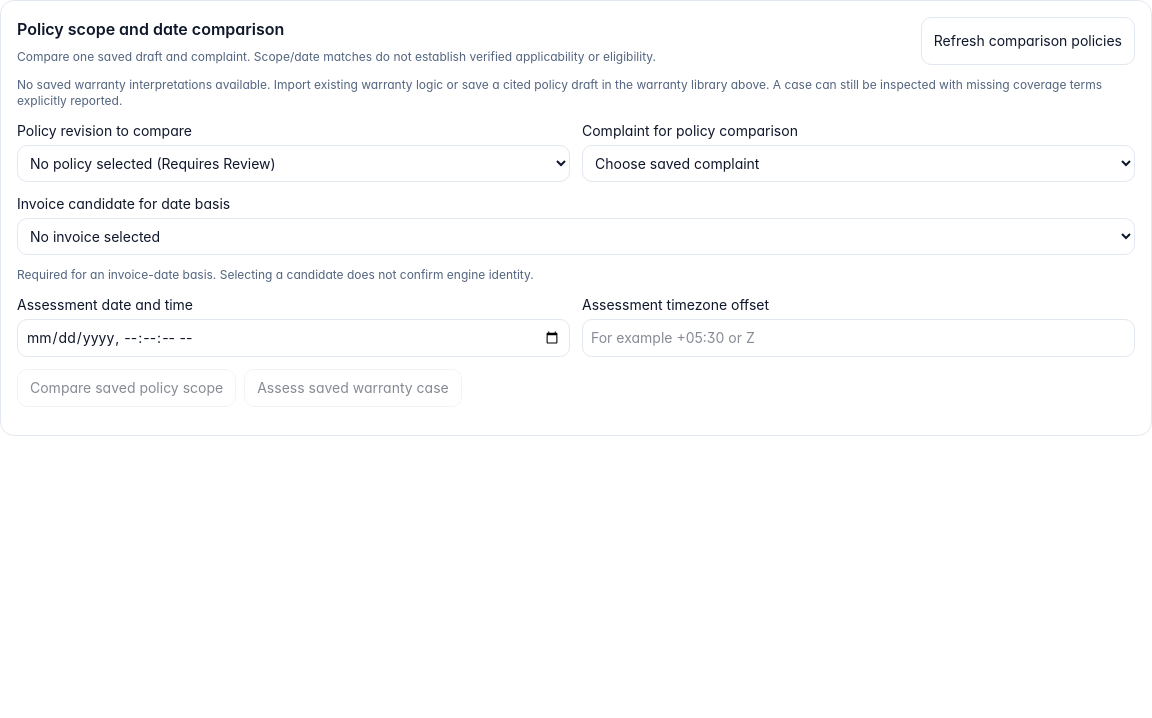
it: assesses a missing policy without forcing a fabricated policy selection
Expected: the button "Assess saved warranty case" is shown, [244, 369, 462, 407]
Select "t1" in the dropdown labelled "Complaint for policy comparison" at [858, 164], box [582, 145, 1135, 182]
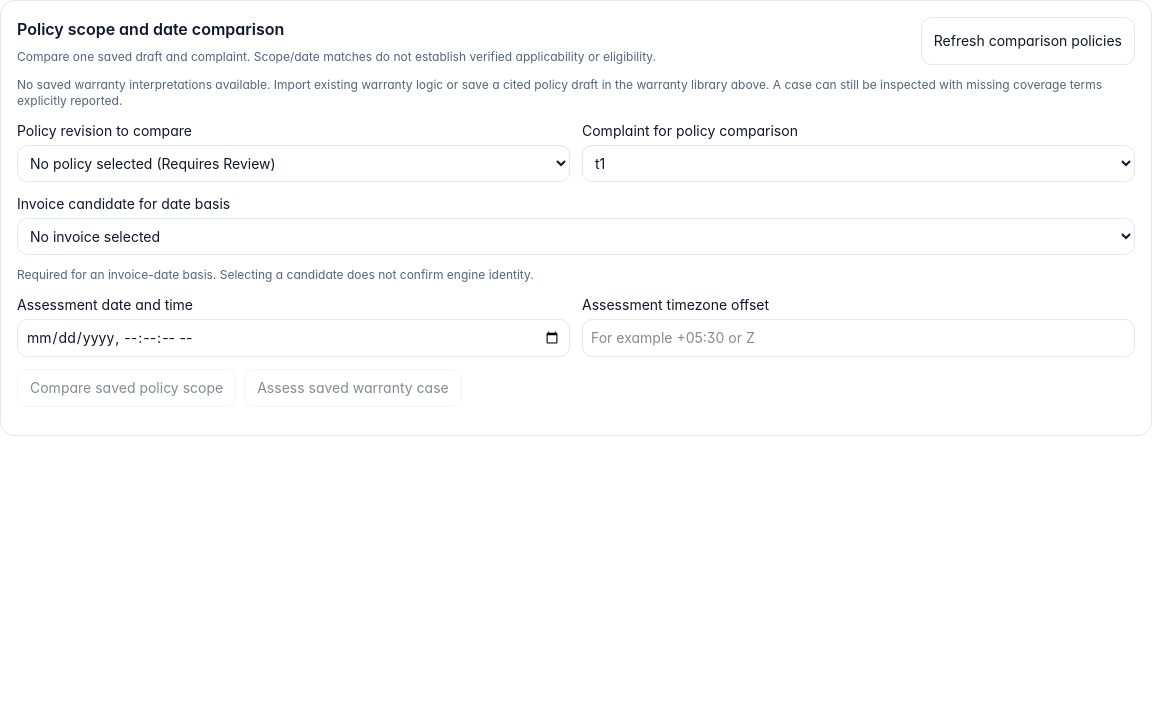
Type "2026-06-01T12:00" into the field labelled "Assessment date and time" at [294, 338], box [17, 319, 570, 357]
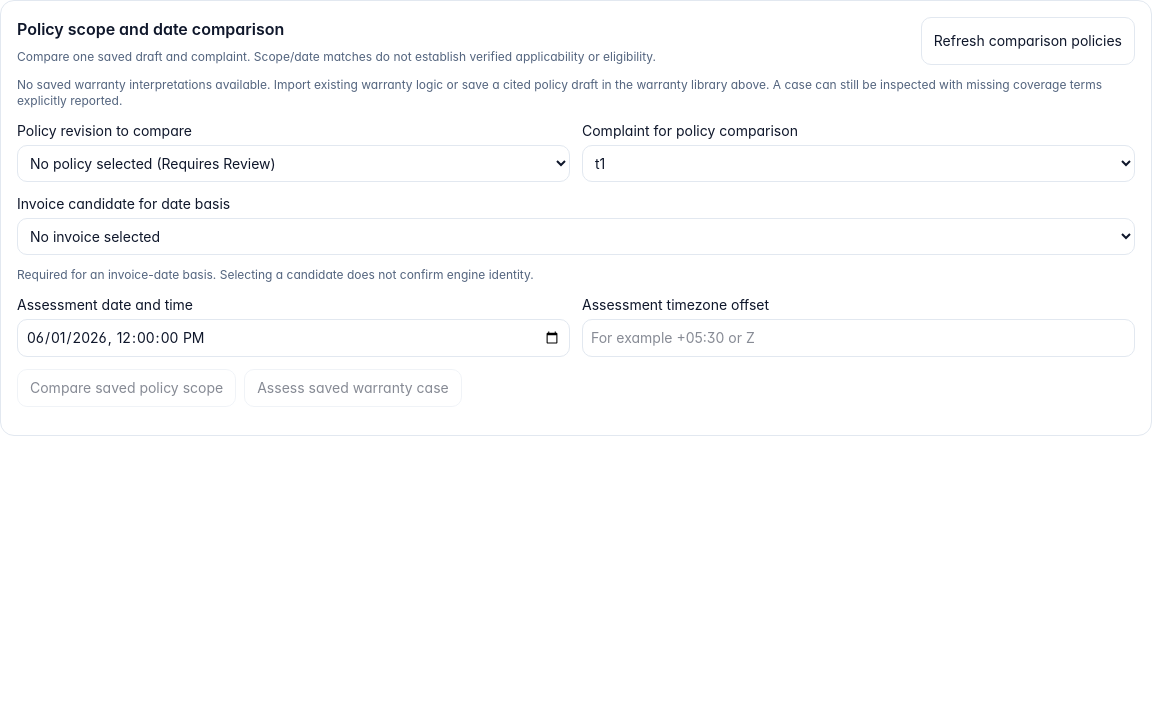
Type "Z" into the field labelled "Assessment timezone offset" at [858, 338], box [582, 319, 1135, 357]
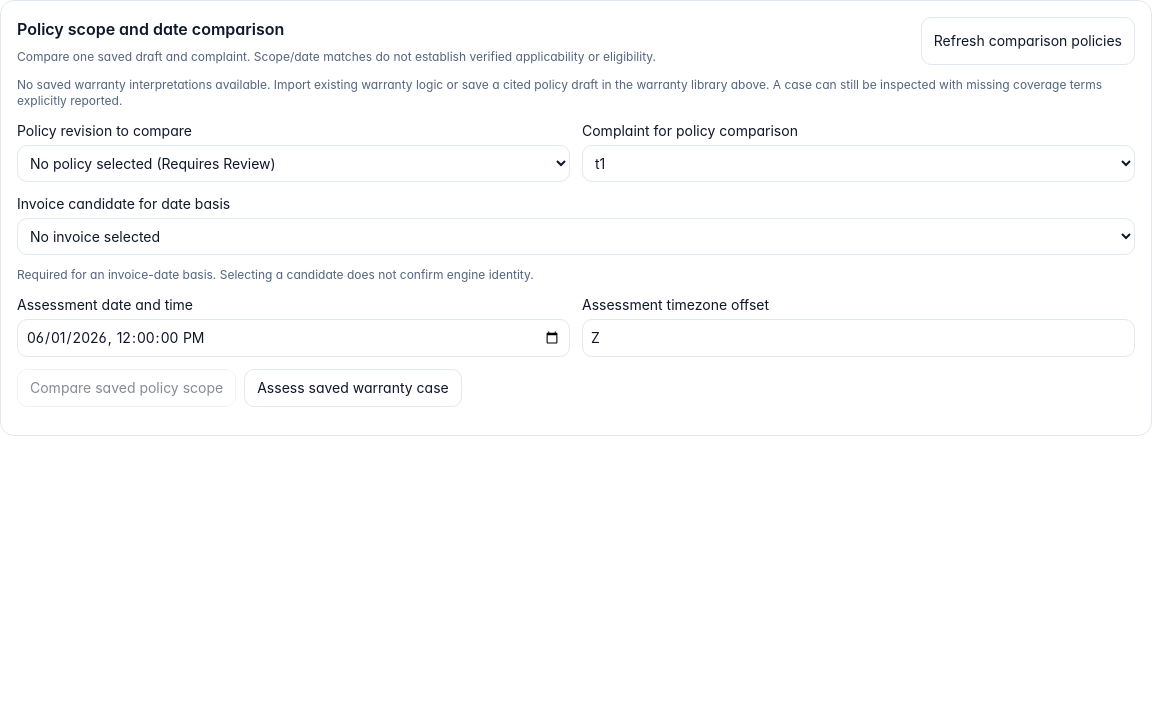
Expected: the button "Compare saved policy scope" is disabled, [17, 369, 236, 407]
Click the button "Assess saved warranty case" at [353, 388], box [244, 369, 462, 407]
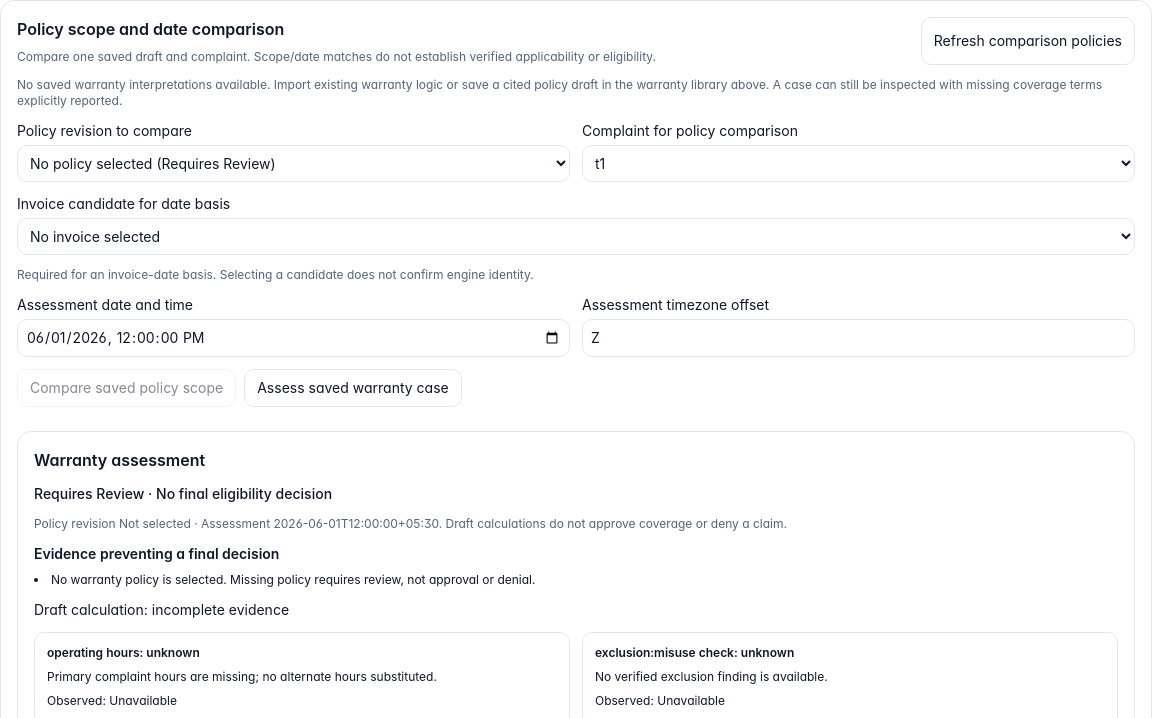
Expected: the list item "Missing policy requires review" is shown, [51, 572, 536, 587]
